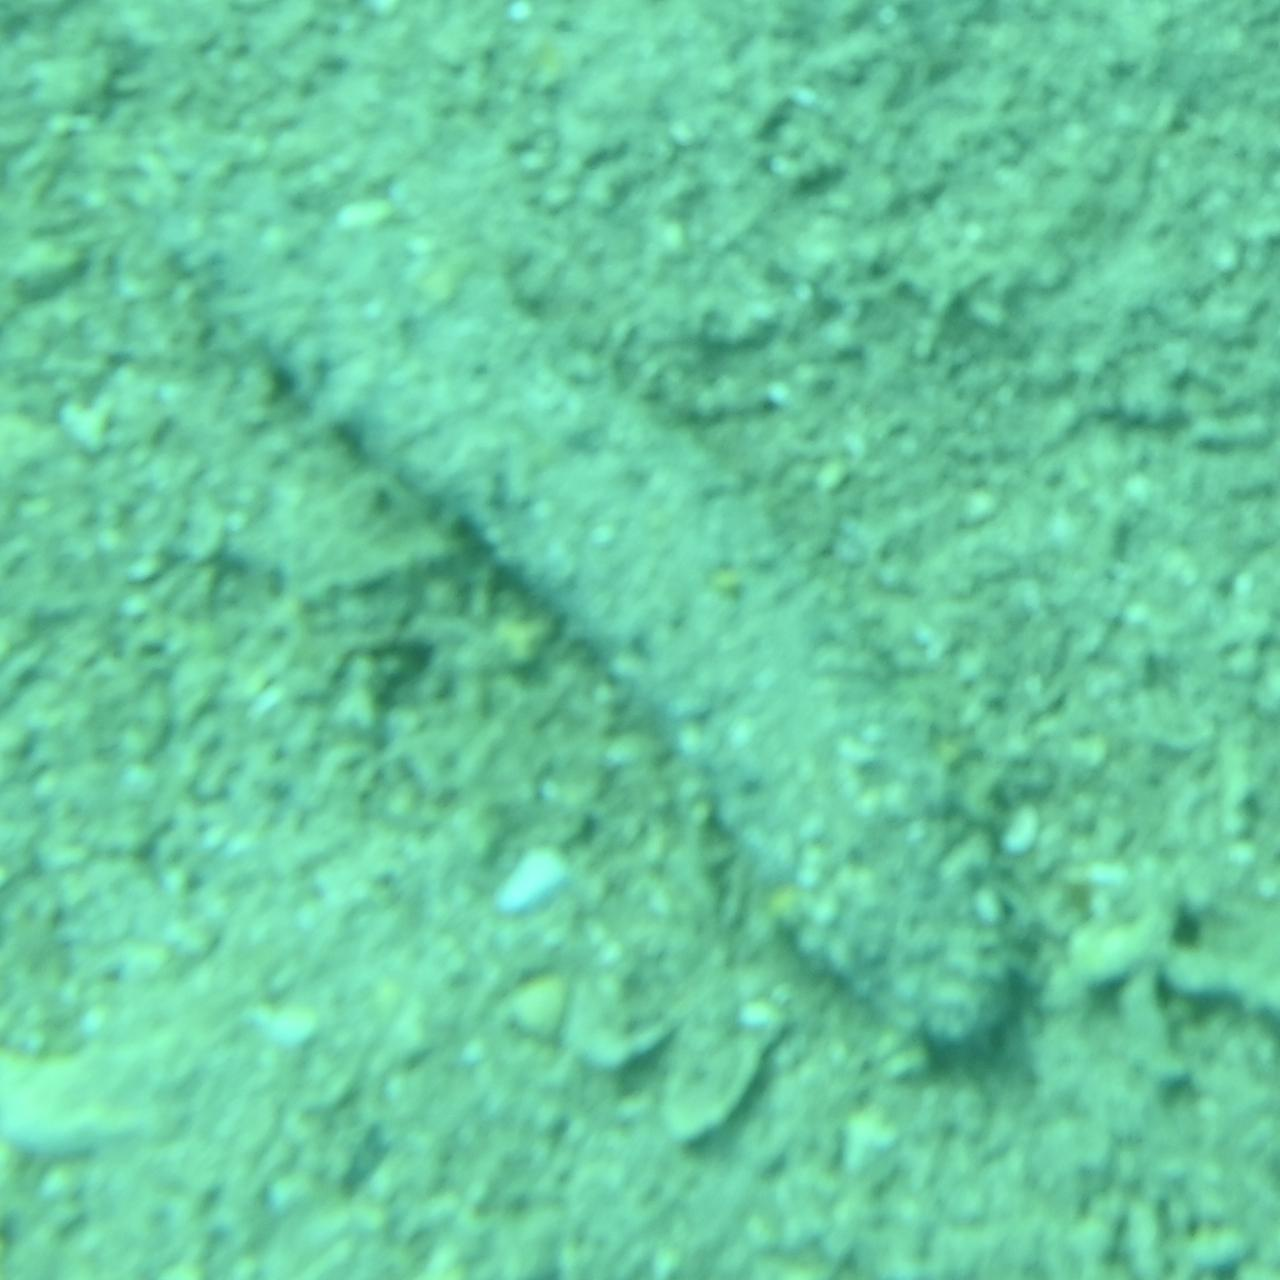Holothuria tubulosa: (222, 196, 1058, 1084)
